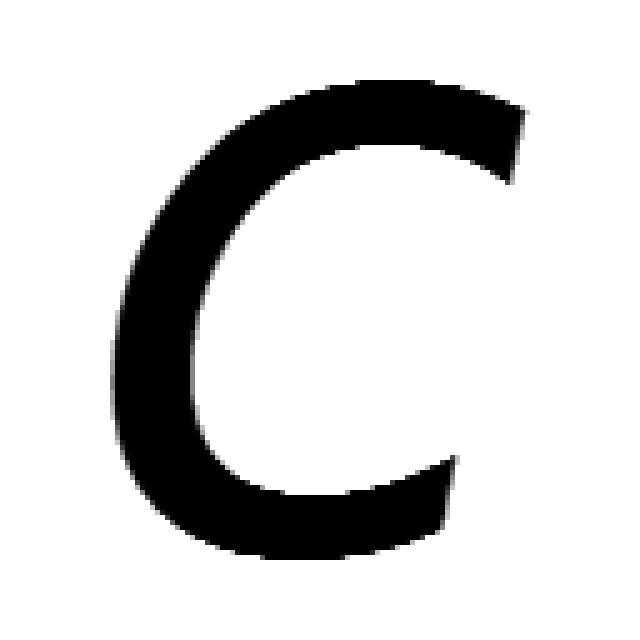C: (110, 80, 525, 565)
